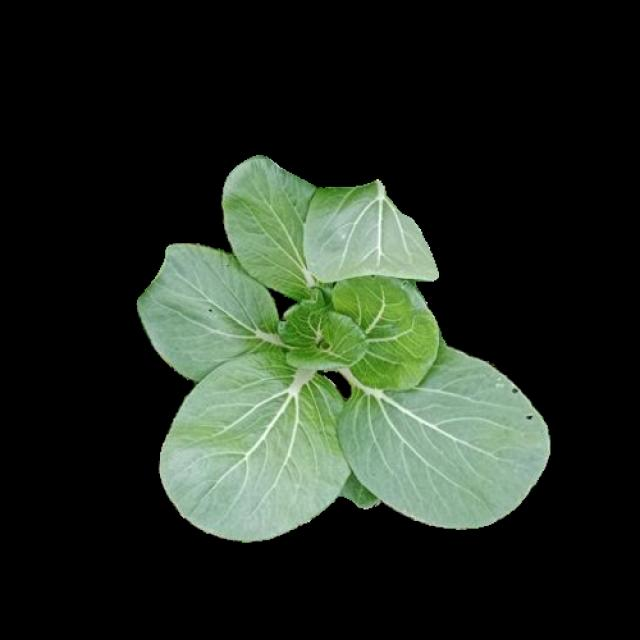not-mature: (141, 158, 550, 542)
unhealthy: (336, 342, 552, 528)
